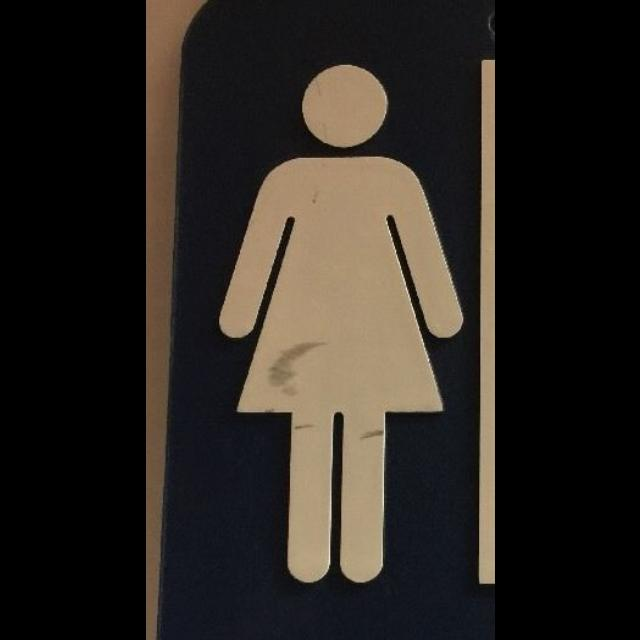wc nu: (162, 0, 494, 639)
